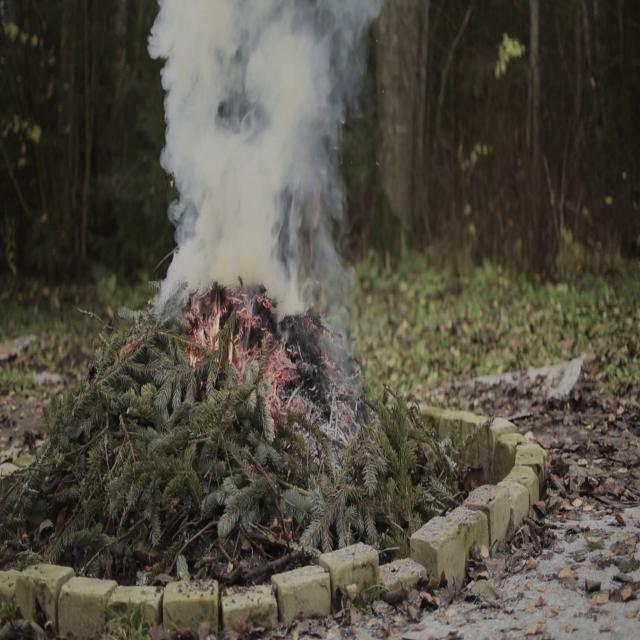Smoke: (145, 0, 369, 335)
